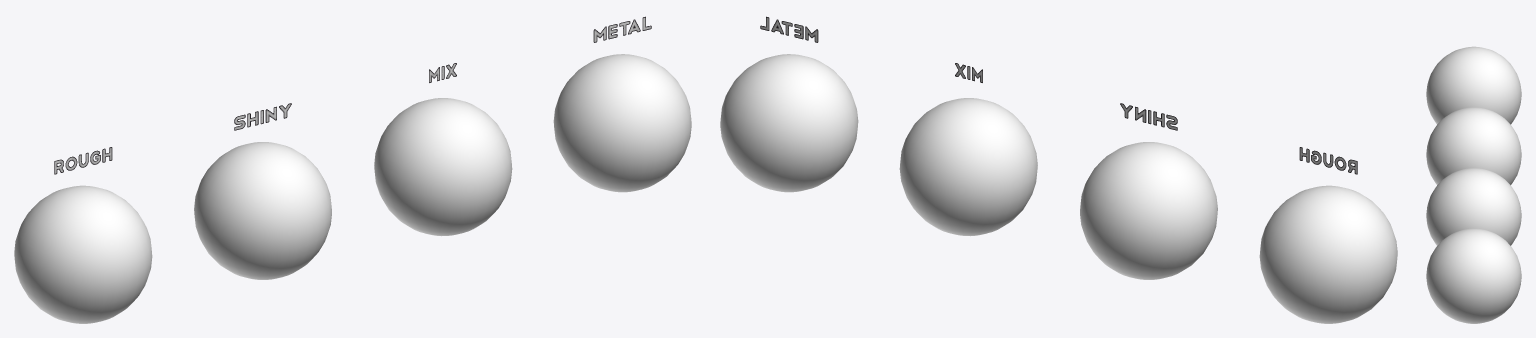
3 renders of one model, left to right at view 1: azimuth 30°, elevation 25°; view 2: azimuth 150°, elevation 25°; view 3: azimuth 270°, elevation 25°, orthographic. The views are drawn at different scales.
Parts seen in each view (by area): view 1: Metal, Rough, 50/50, Shiny, RoughText (×3); view 2: Metal, Rough, 50/50, Shiny, RoughText (×3); view 3: Metal, Shiny, Rough, 50/50.
Part boxes in pixels (<box>): Metal: <box>553,54,691,192</box>; Rough: <box>14,185,152,323</box>; 50/50: <box>374,98,512,236</box>; Shiny: <box>194,142,331,279</box>; RoughText (×3): <box>54,16,651,174</box>; Metal: <box>720,54,858,192</box>; Rough: <box>1259,185,1397,323</box>; 50/50: <box>899,98,1037,236</box>; Shiny: <box>1080,142,1217,279</box>; RoughText (×3): <box>760,16,1357,174</box>; Metal: <box>1426,228,1521,323</box>; Shiny: <box>1426,107,1521,184</box>; Rough: <box>1426,46,1521,124</box>; 50/50: <box>1426,168,1521,245</box>.
Size of the model in its own units: 11 by 2.62 by 2.
8 materials, 4 textured.
